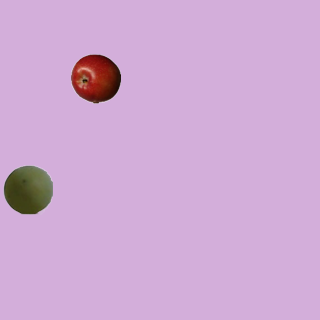Apple Braeburn: (70, 53, 120, 103)
Grape White 4: (2, 164, 52, 214)
